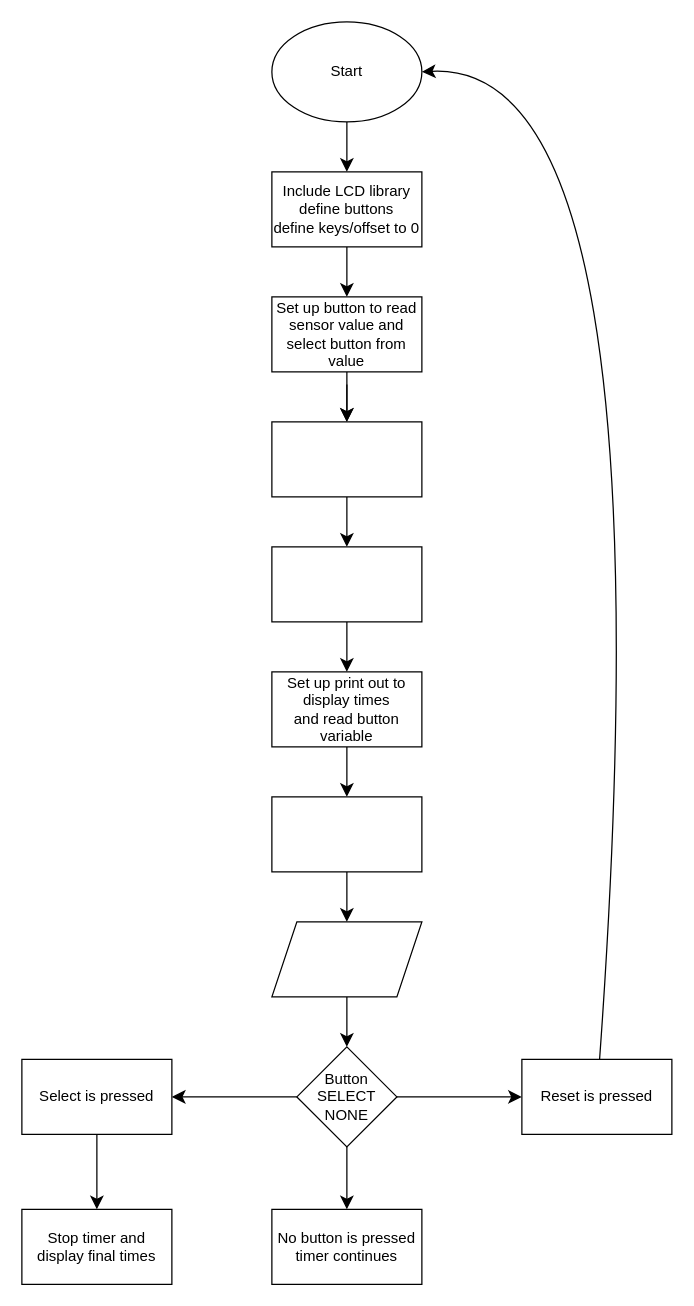
This 694x1306 diagram has some shape labels left out. The centre of each missing label's shape, as x and y in pixels:
"Button press" goes at (x=346, y=959).
"Define switch that reads button selected add delay and offset of equal times" goes at (x=346, y=834).
"Loop sets up math for timer ms, sec, and min" goes at (x=346, y=584).
"Setup LCD screen" goes at (x=346, y=459).
